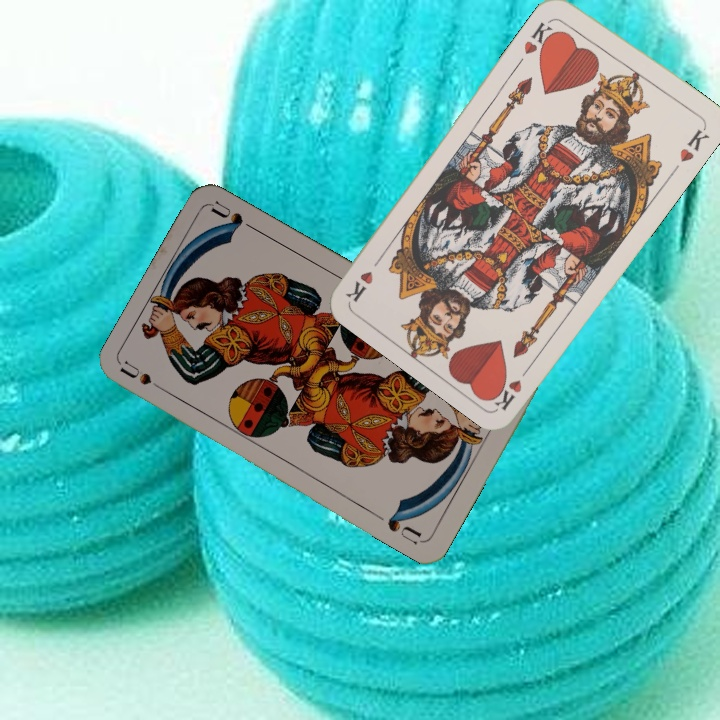HK: (488, 359, 536, 413), (519, 14, 560, 59)
SU: (117, 358, 173, 398)
